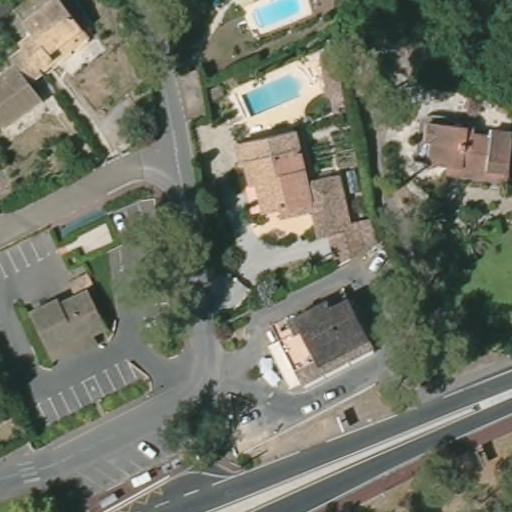pool: (237, 75, 310, 119), (249, 0, 314, 33)
